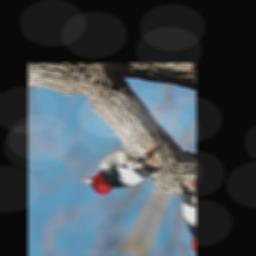Woodpecker: (76, 127, 159, 216)
